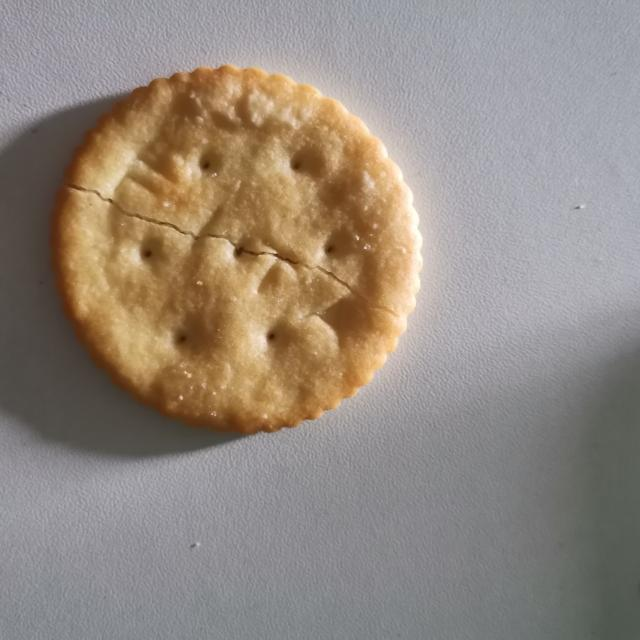Fracture: (54, 162, 421, 332)
